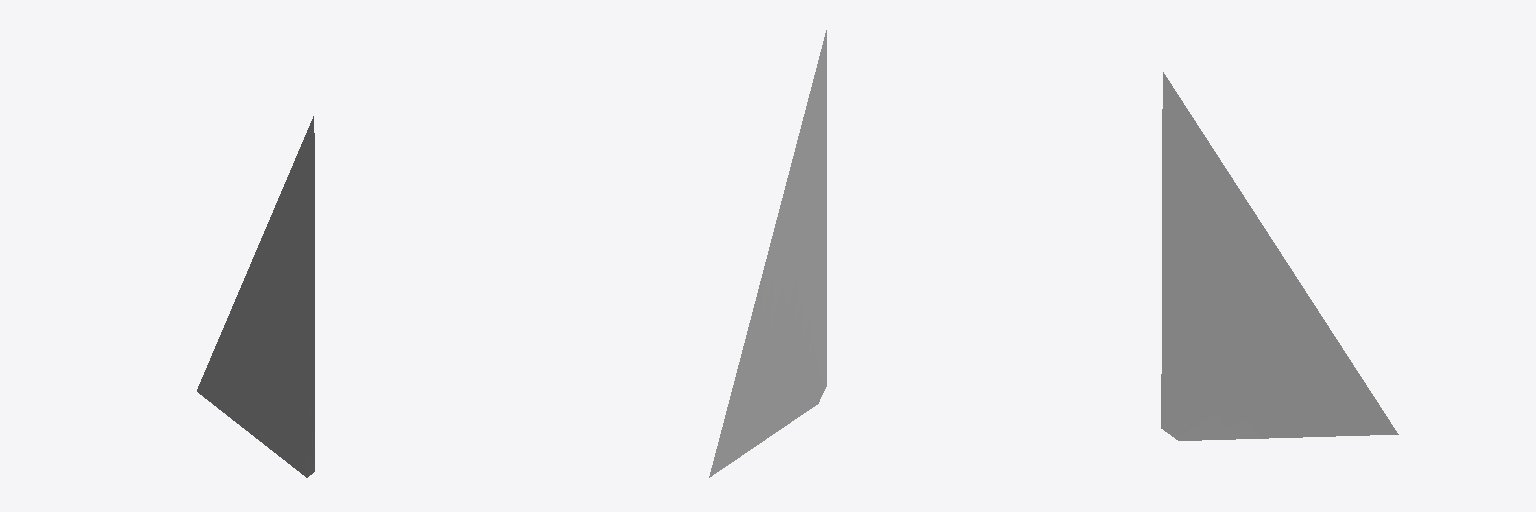
File: mainsail.obj
3 renders of one model, left to right at view 1: azimuth 30°, elevation 25°; view 2: azimuth 150°, elevation 25°; view 3: azimuth 270°, elevation 25°, orthographic.
Size of the model in its own units: 0.0071 by 4.41 by 2.56.